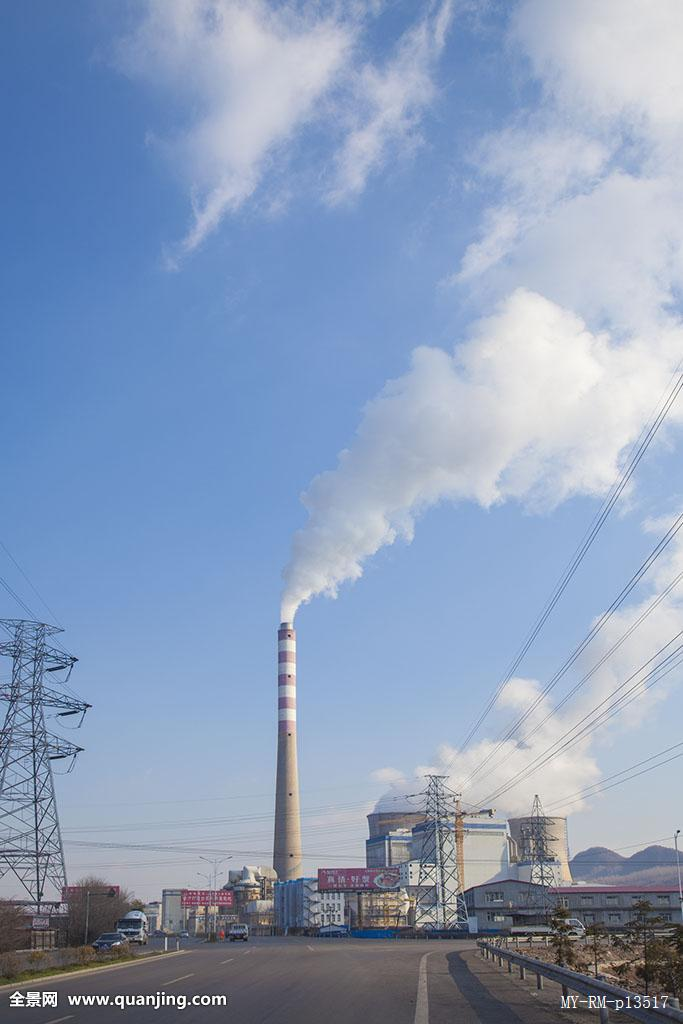dust: (253, 411, 493, 641), (370, 685, 597, 828)
